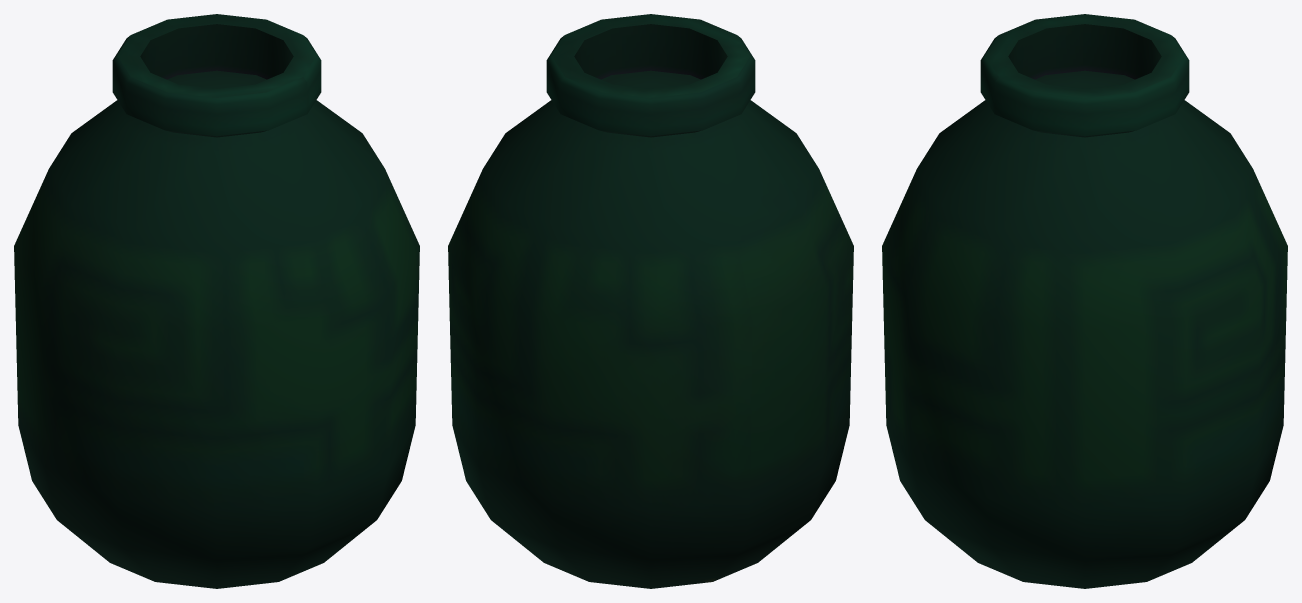
File: Pot1.FBX
3 views of the same model, side by side, from view 1: azimuth 30°, elevation 25°; view 2: azimuth 150°, elevation 25°; view 3: azimuth 270°, elevation 25° (orthographic).
Visible parts, largest first — view 1: Pot1; view 2: Pot1; view 3: Pot1.
Boxes of the visible parts, <box> form: Pot1: <box>14,14,419,588</box>; Pot1: <box>448,14,853,588</box>; Pot1: <box>882,14,1287,588</box>.
Size of the model in its own units: 0.8293 by 1.08 by 0.8293.
